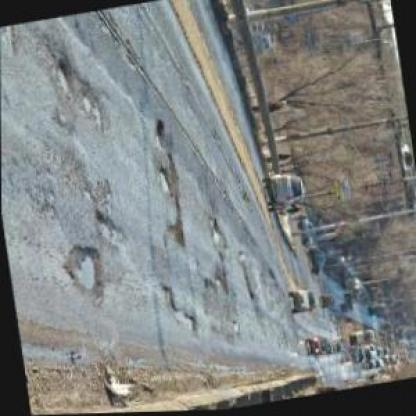pothole: (54, 51, 108, 139), (60, 242, 108, 306), (158, 278, 198, 340), (92, 208, 119, 245), (204, 214, 229, 251), (166, 154, 184, 205), (164, 219, 188, 252), (210, 269, 232, 298), (156, 166, 174, 201), (153, 119, 169, 142), (232, 320, 242, 338), (237, 251, 248, 266)
